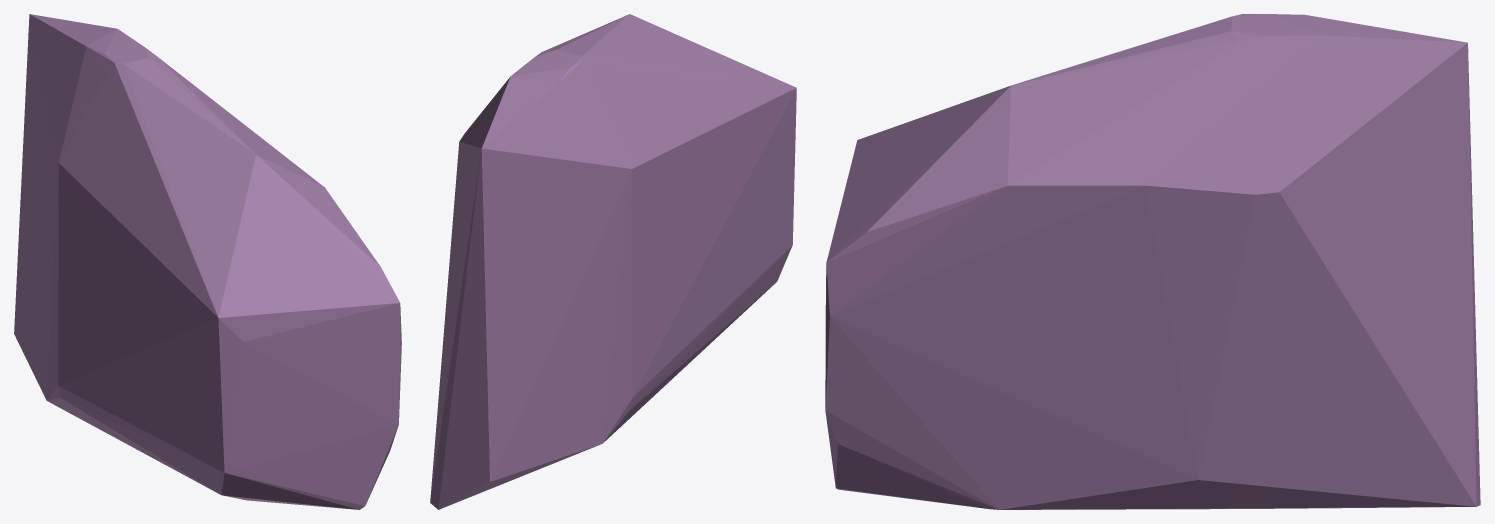
File: serviceTool_camera_inspectionKit_a01.glb
The picture shows the model from 3 angles, left to right: view 1: azimuth 30°, elevation 25°; view 2: azimuth 150°, elevation 25°; view 3: azimuth 270°, elevation 25°; orthographic projection. The views are drawn at different scales.
Parts seen in each view (by area): view 1: geometry_0; view 2: geometry_0; view 3: geometry_0.
Part boxes in pixels (x1=…): geometry_0: x1=14, y1=14, x2=401, y2=509; geometry_0: x1=430, y1=14, x2=796, y2=509; geometry_0: x1=825, y1=14, x2=1480, y2=509.
Size of the model in its own units: 0.1317 by 0.2799 by 0.3524.
